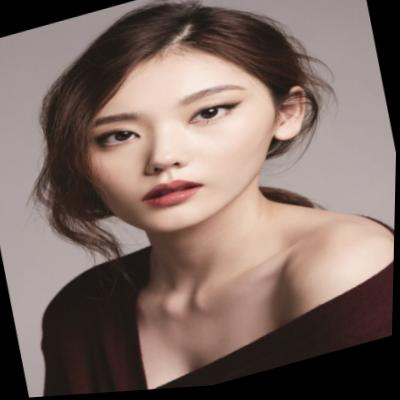netural: (69, 30, 293, 255)
